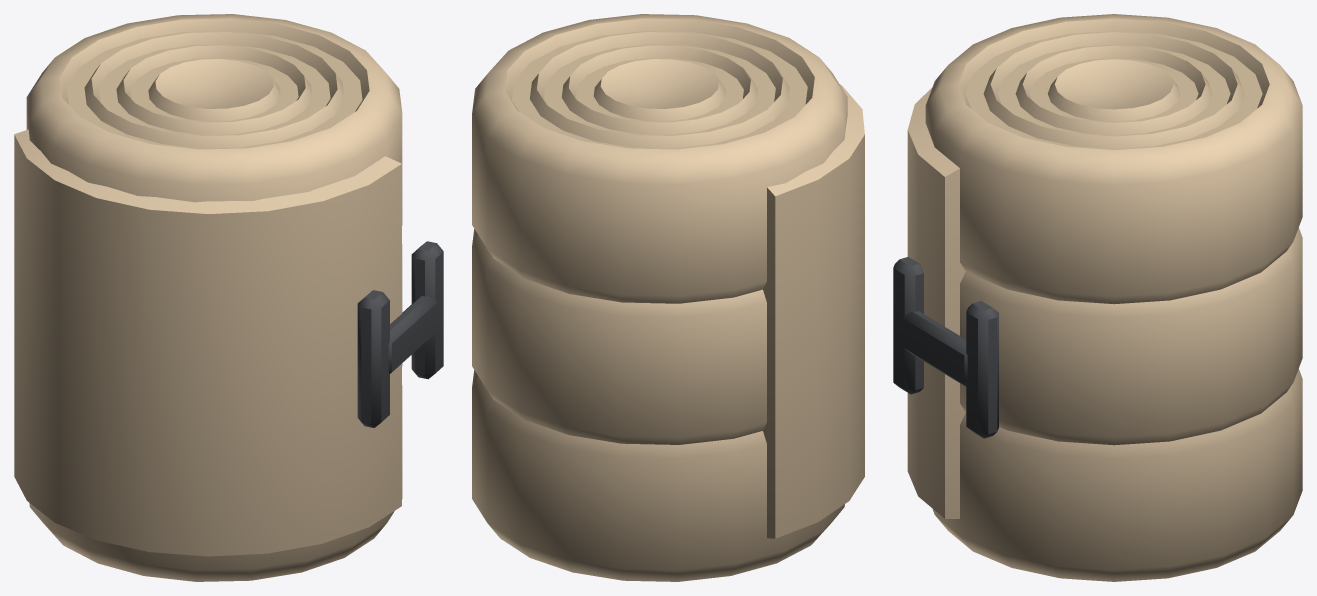
The model's file is bandage.glb.
3 renders of one model, left to right at view 1: azimuth 30°, elevation 25°; view 2: azimuth 150°, elevation 25°; view 3: azimuth 270°, elevation 25°, orthographic.
Parts seen in each view (by area): view 1: bandage, bandage_clip; view 2: bandage; view 3: bandage, bandage_clip.
Boxes of the visible parts, <box> form: bandage: <box>14,14,402,581</box>; bandage_clip: <box>357,241,443,427</box>; bandage: <box>472,14,864,581</box>; bandage: <box>907,14,1302,581</box>; bandage_clip: <box>893,257,998,438</box>.
Size of the model in its own units: 0.0827 by 0.1 by 0.0869.
